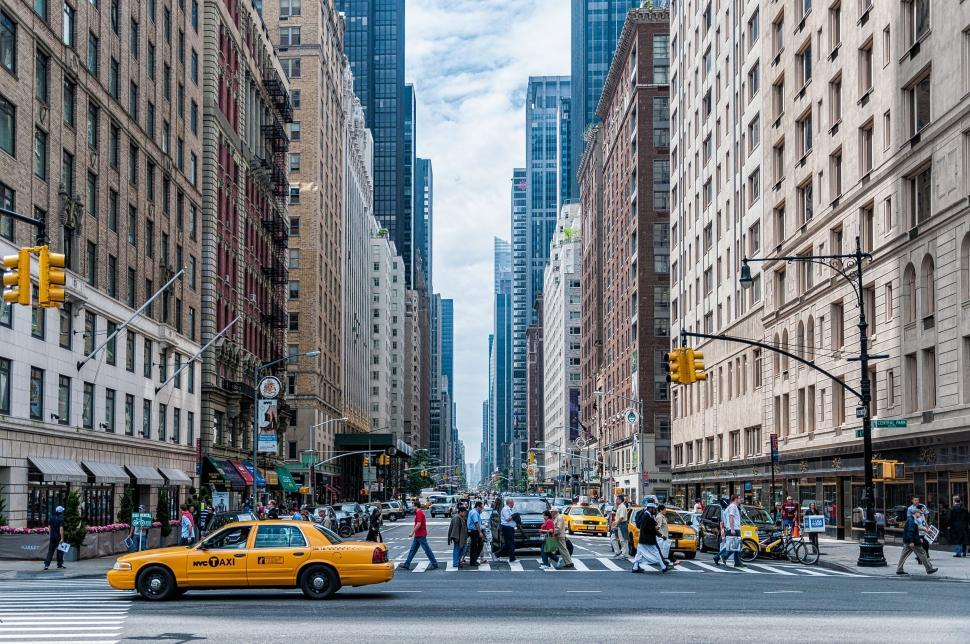car: (108, 519, 395, 601)
